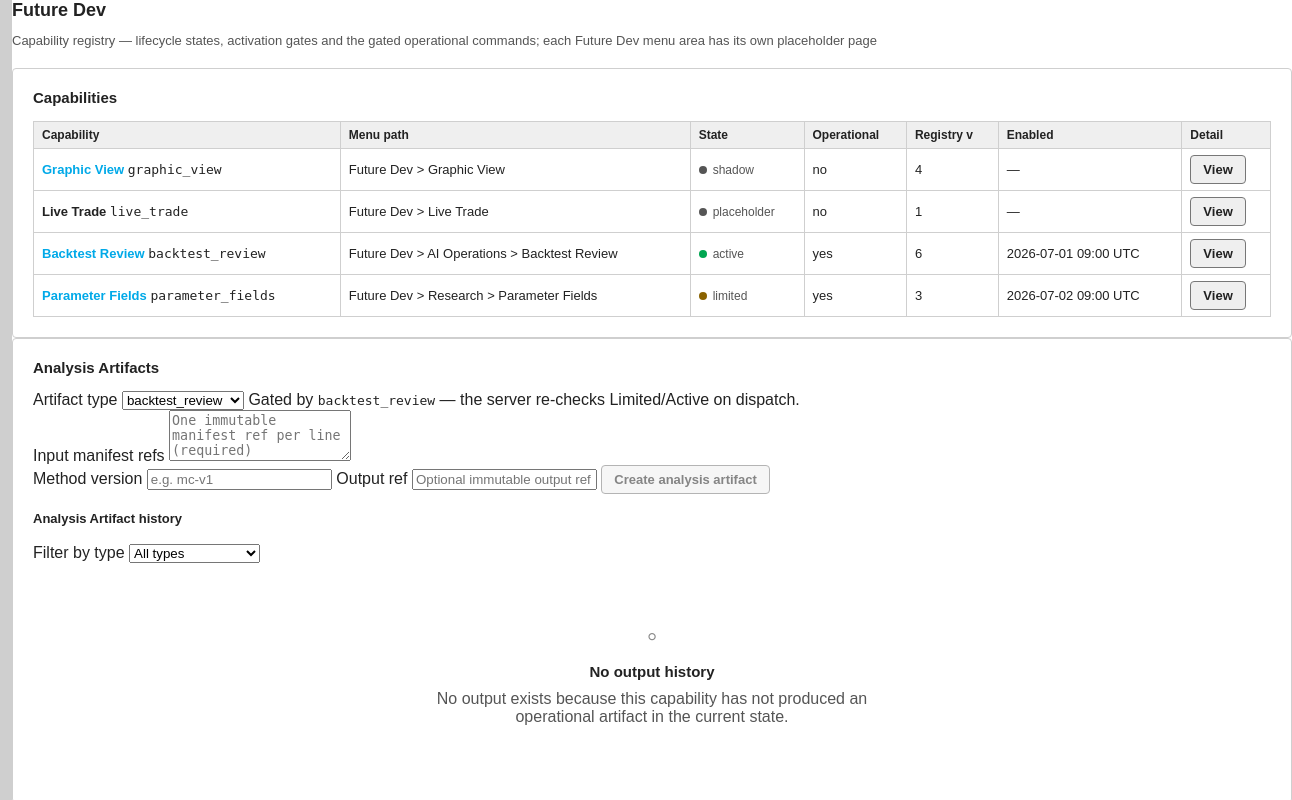
Scenario: Future Dev page › shows the empty transition state for a never-transitioned capability
Check: the text "Live Trade" is shown, box x1=42 y1=204 x2=106 y2=219
Click the button "View" in the row of "graphic_view". click: (1218, 170)
box: x1=1190 y1=155 x2=1246 y2=184
(page scrolled)
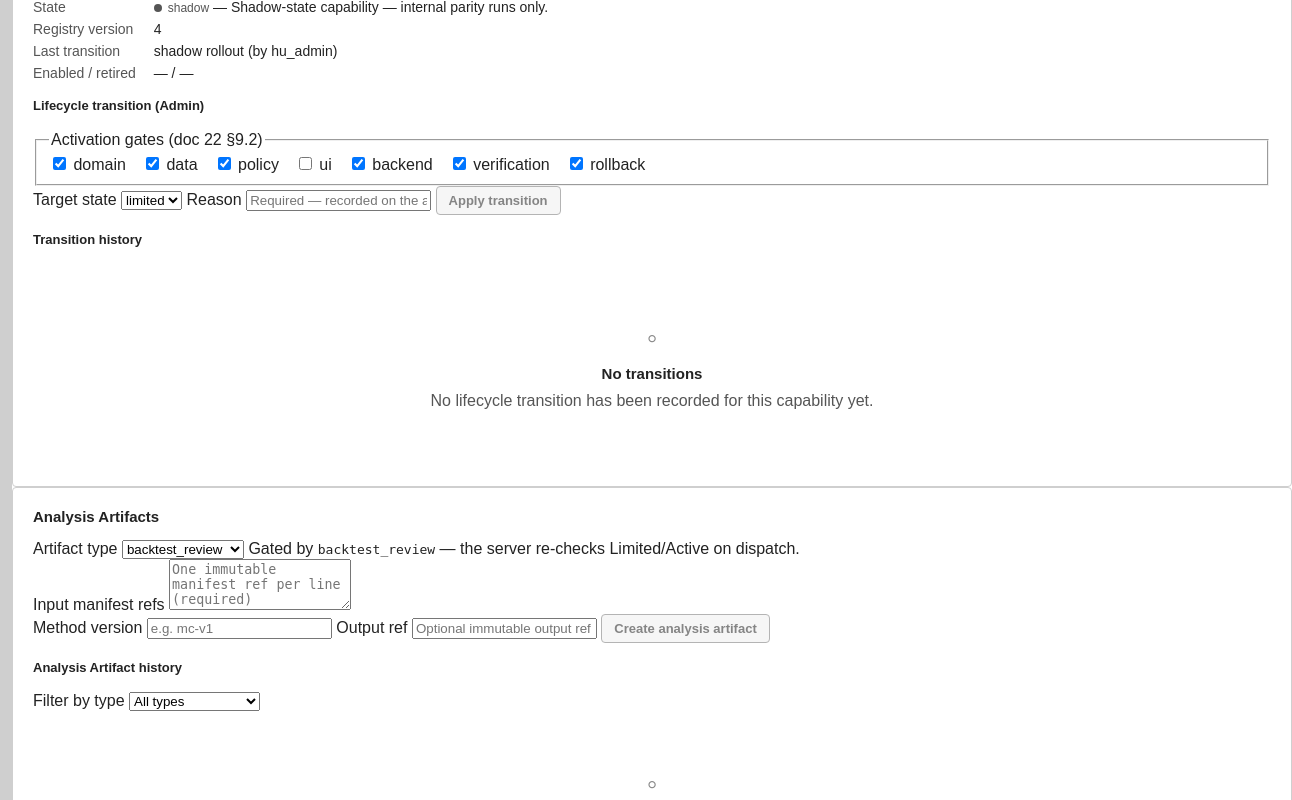
Check: the text "shadow rollout (by hu_admin)" is shown, box x1=154 y1=43 x2=337 y2=59
Check: the text "No lifecycle transition has been recorded for this capability yet." is shown, box x1=430 y1=392 x2=873 y2=410
